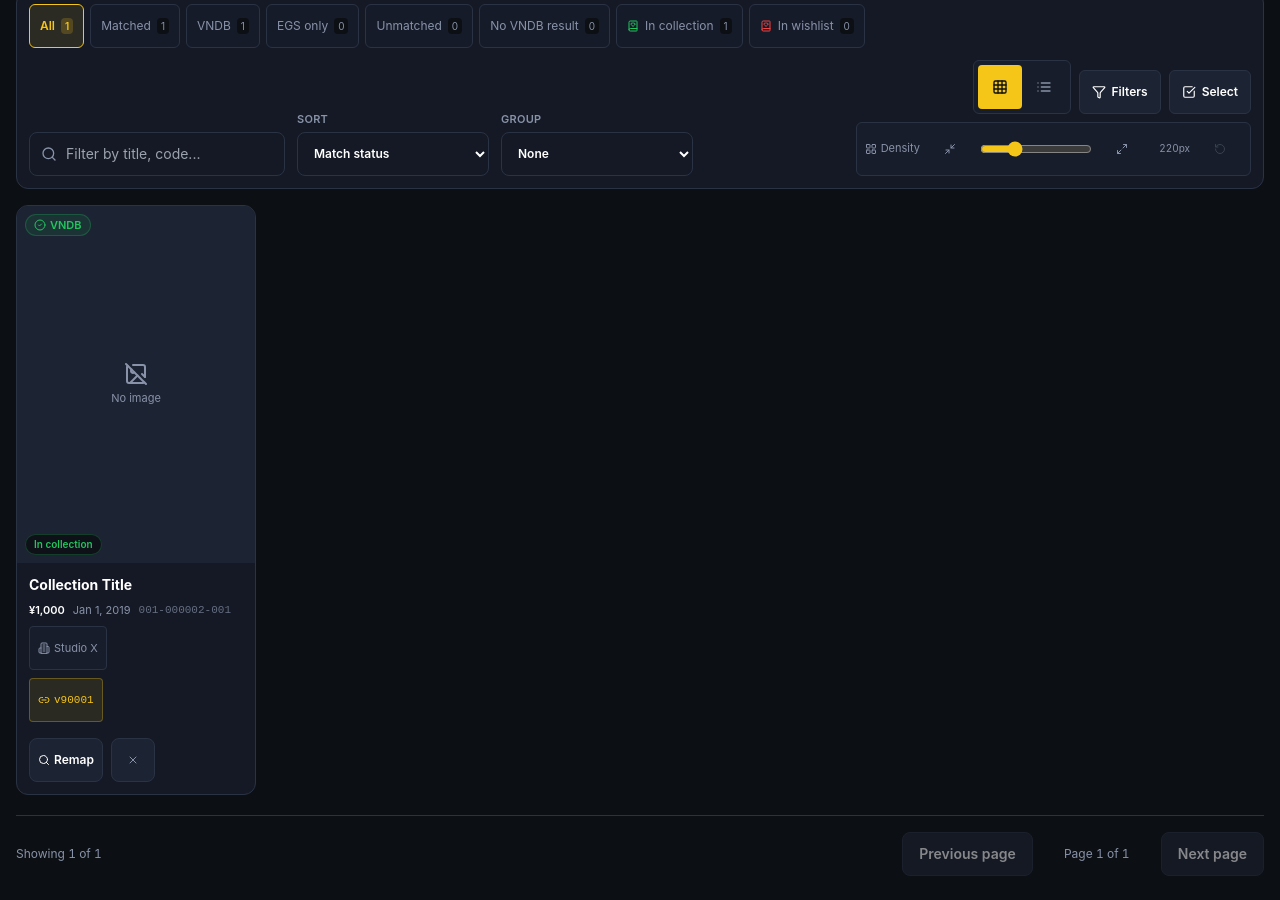
Test case: AliceNetClient branches › keeps the dialog closed and does not DELETE when clear is cancelled
(page scrolled)
Step 1. Click the button named "Clear" → coordinates (133, 760), box [111,738,155,782]
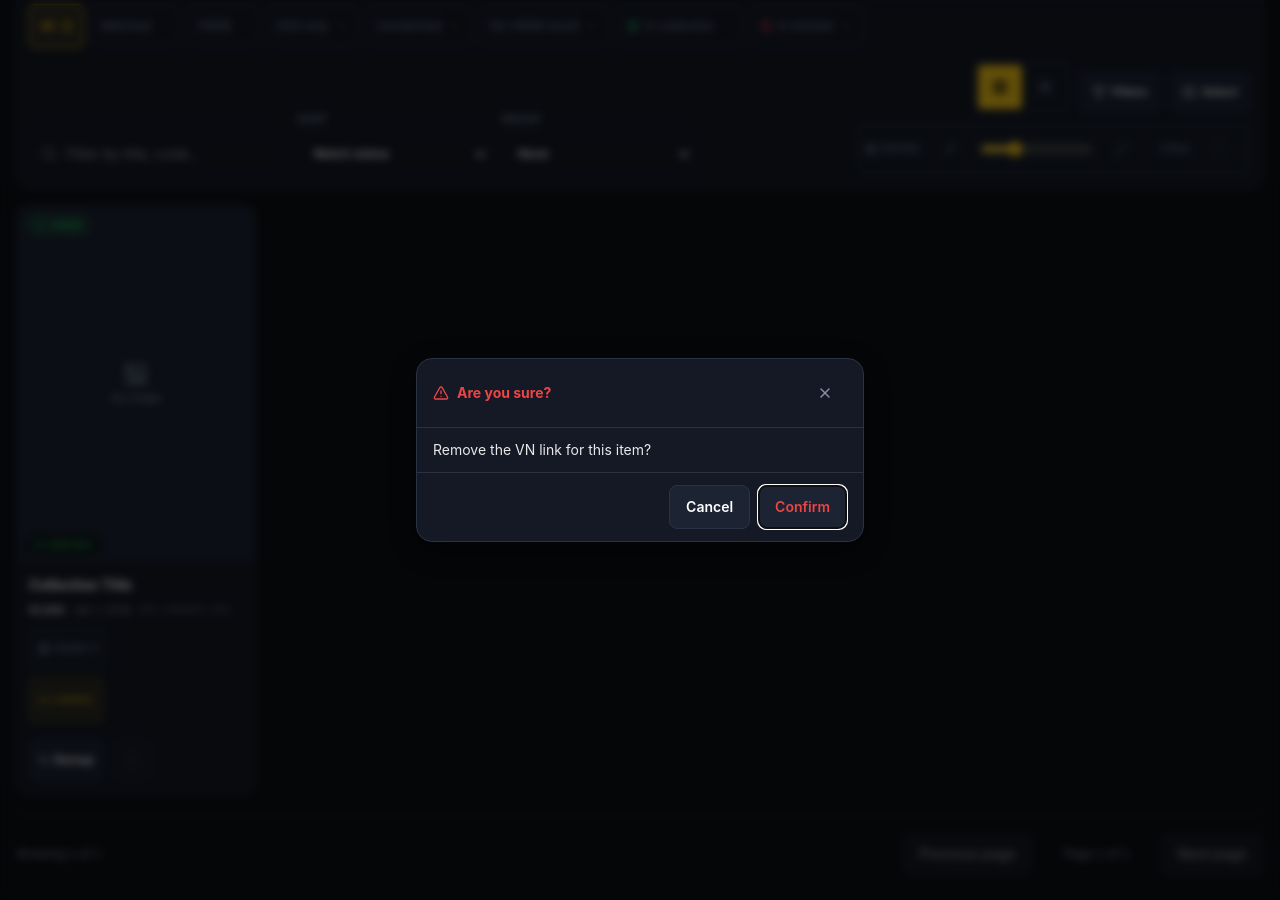
Step 2. Click the button "Cancel" → coordinates (710, 507), box [669,485,750,529]
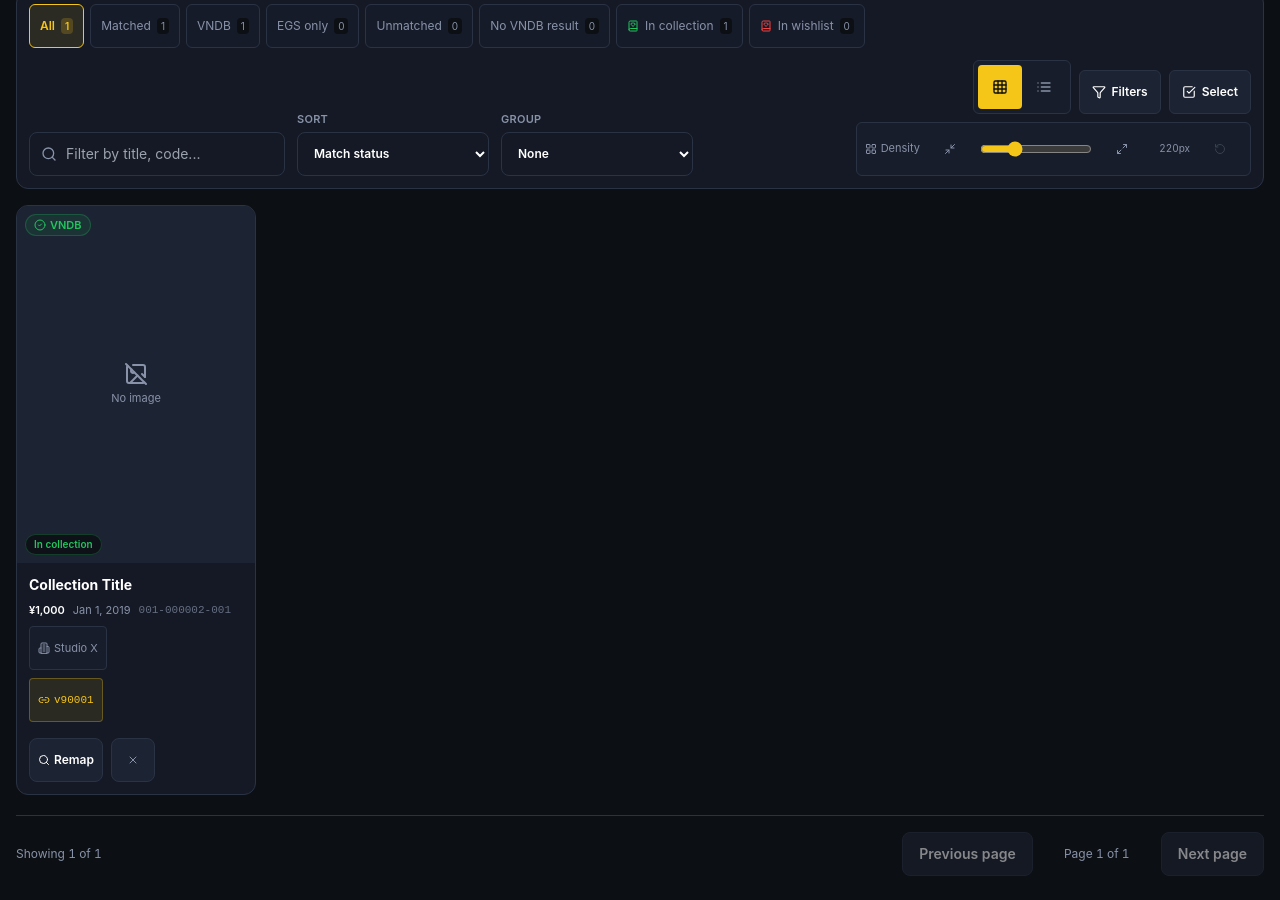
Check: the dialog is gone
